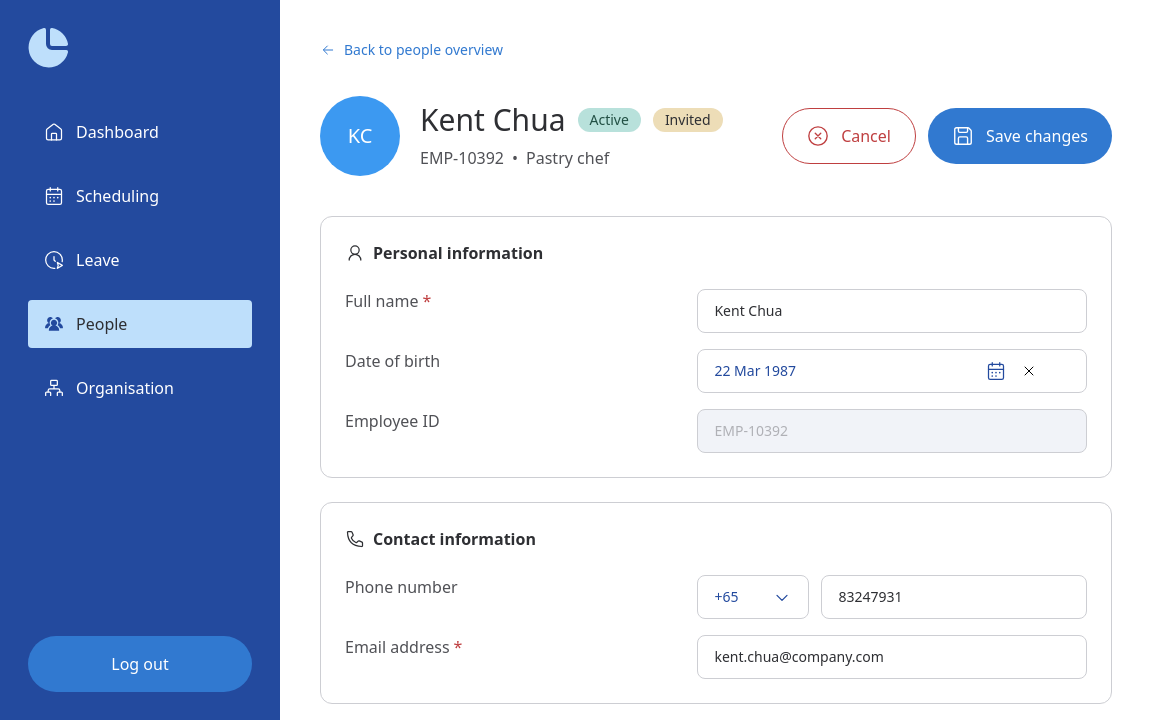
Scenario: Editing a person › lets the email address be corrected while the invitation is pending
Expected: the field labelled "Full name" is shown, [714,301,1070,321]
Replace the text in the field labelled "Email address" with "kent@company.com" at (892, 657), box [714,647,1070,667]
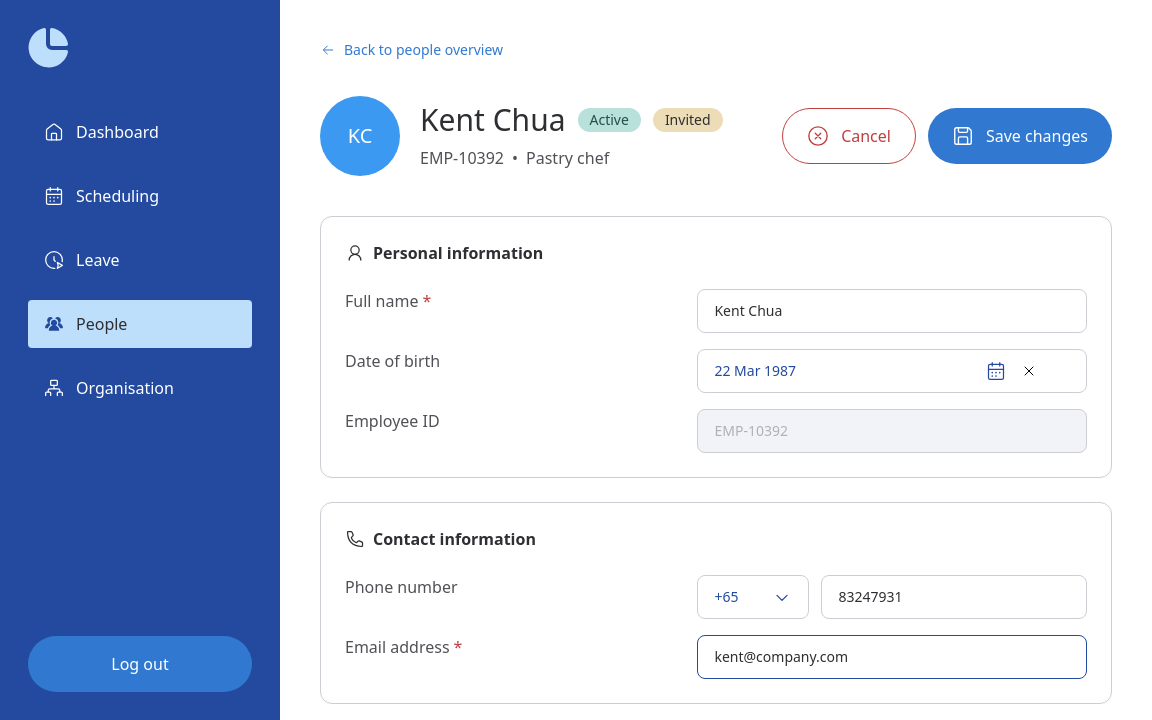
Click the button "Save changes" at (1020, 136), box [928,108,1112,164]
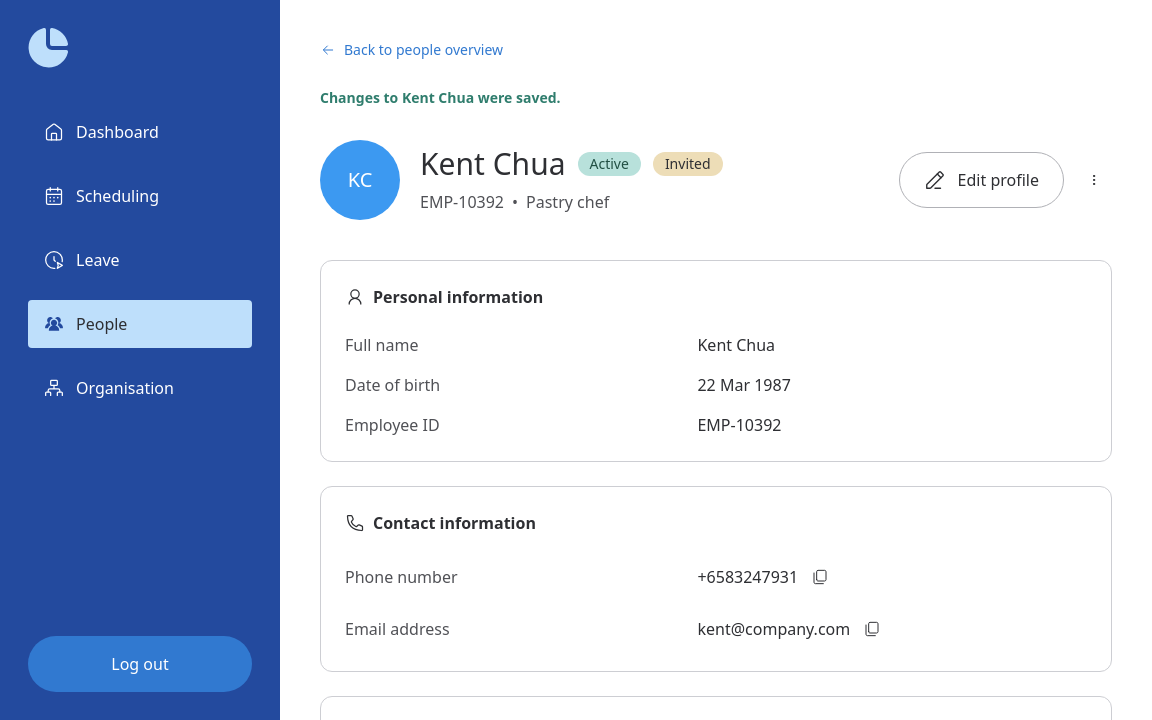
Now the text "Changes to Kent Chua were saved." is shown, box [320,88,560,107]
